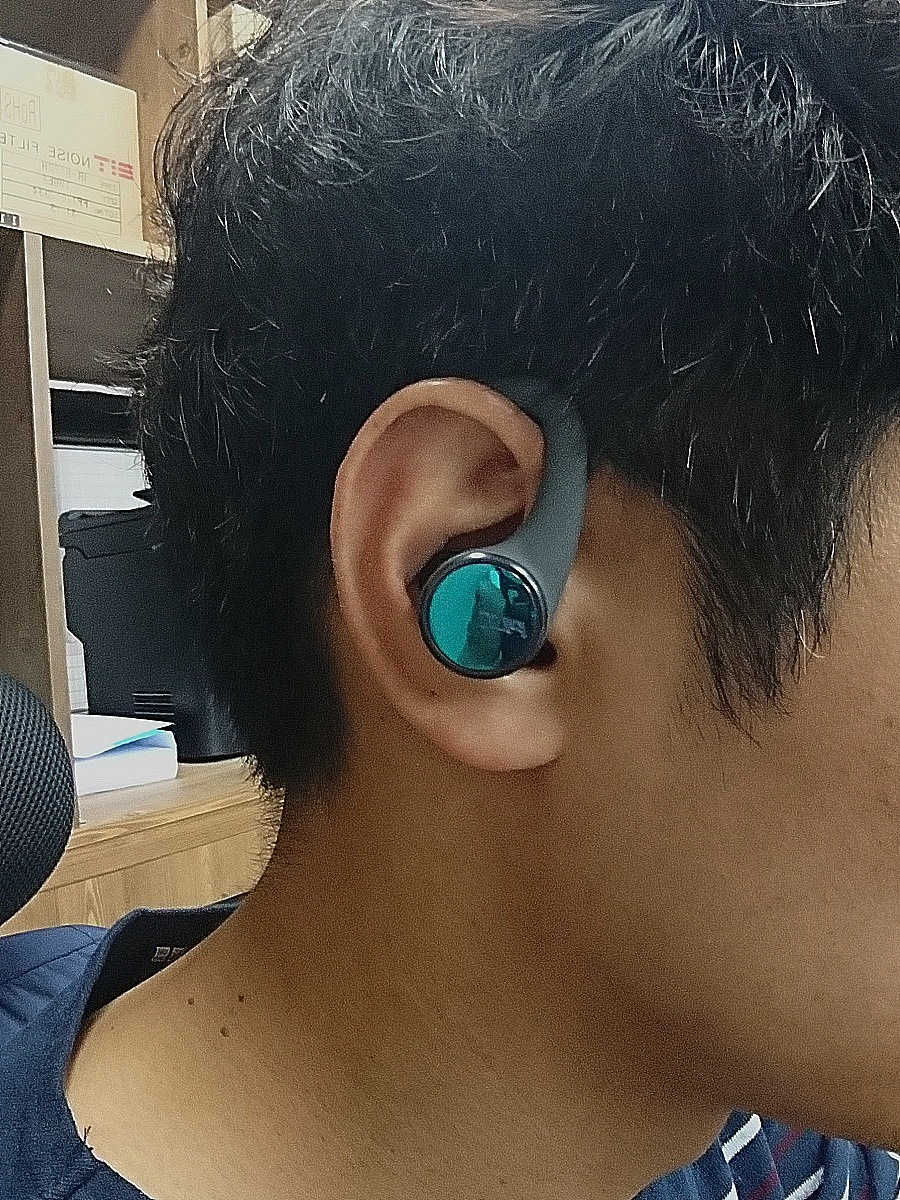earphone: (327, 376, 573, 774)
